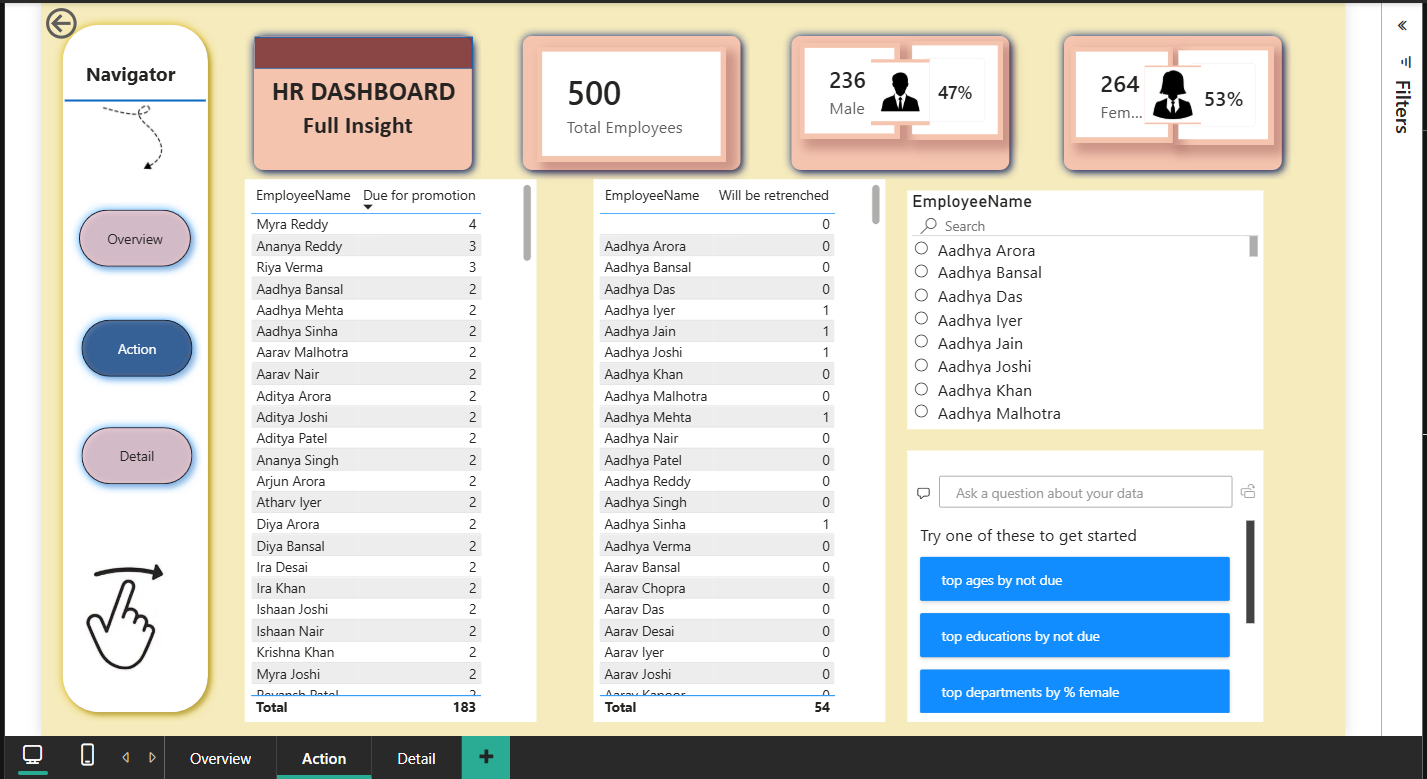

Layout of this report page (visuals, bound fields, positions):
{"tool":"powerbi","page":{"name":"Action","canvas":[1280,720],"ordinal":1},"visuals":[{"type":"shape","box":[12.3,12.3,160.5,693],"z":0},{"type":"shape","box":[200.3,23.3,231.9,149.6],"z":1000},{"type":"shape","box":[994.9,23.3,231.9,149.6],"z":2000},{"type":"shape","box":[727.3,23.3,231.9,149.6],"z":3000},{"type":"shape","box":[463.8,23.3,231.9,149.6],"z":4000},{"type":"textbox","box":[209.9,64.5,214.1,46.7],"z":5000},{"type":"textbox","box":[236,98.8,150.9,46.7],"z":6000},{"type":"shape","box":[209.9,32.9,214.1,31.6],"z":7000},{"type":"cardVisual","title":"TOTAL EMPLOYEES","fields":{"Data":["All Measures.Total EMP"]},"box":[487.1,42.5,185.2,112.5],"z":8000},{"type":"cardVisual","fields":{"Data":["All Measures.Male"]},"box":[745.1,39.8,98.8,94.7],"z":9000},{"type":"cardVisual","fields":{"Data":["All Measures.% male"]},"box":[850.8,37,94.7,97.4],"z":10000},{"type":"cardVisual","fields":{"Data":["All Measures.Female"]},"box":[1011.3,42.5,100.2,94.7],"z":11000},{"type":"cardVisual","fields":{"Data":["All Measures.% Female"]},"box":[1111.5,41.2,98.8,97.4],"z":12000},{"type":"image","box":[1084.1,61.7,54.9,57.6],"z":13000},{"type":"image","box":[815.1,54.9,57.6,64.5],"z":14000},{"type":"actionButton","box":[0,0,100,40],"z":15000},{"type":"tableEx","fields":{"Values":["HR_Employee_Data.EmployeeName","All Measures.Due for promotion"]},"box":[200.3,172.9,286.8,532.4],"z":16000},{"type":"tableEx","fields":{"Values":["HR_Employee_Data.EmployeeName","All Measures.Will be retreanched"]},"box":[542,172.9,286.8,532.4],"z":17000},{"type":"pageNavigator","box":[28.8,193.5,129,74.1],"z":18000},{"type":"pageNavigator","box":[30.2,301.9,127.6,74.1],"z":19000},{"type":"pageNavigator","box":[30.2,407.5,127.6,74.1],"z":20000},{"type":"textbox","box":[28.8,52.1,119.4,71.4],"z":21000},{"type":"shape","box":[23.3,49.4,138.6,93.3],"z":22000},{"type":"image","box":[30.2,65.9,118,131.7],"z":23000},{"type":"image","box":[24.7,540.7,135.8,118],"z":24000},{"type":"listSlicer","fields":{"Values":["HR Analytics Data.EmployeeName"]},"box":[850.3,184.1,349.7,234.4],"z":25000},{"type":"qnaVisual","box":[850.3,439.3,349.7,266.3],"z":26000}]}

Visuals, with their boxes on the page's 1280x720 design canvas (x1, y1, x2, y2). These are canvas units, not pixel positions in the 1427x779 screenshot, which may show the page scaled, cropped or inside an application window:
shape: box=[12, 12, 173, 705]
shape: box=[200, 23, 432, 173]
shape: box=[995, 23, 1227, 173]
shape: box=[727, 23, 959, 173]
shape: box=[464, 23, 696, 173]
textbox: box=[210, 64, 424, 111]
textbox: box=[236, 99, 387, 146]
shape: box=[210, 33, 424, 64]
"TOTAL EMPLOYEES" cardVisual: box=[487, 42, 672, 155]
cardVisual - All Measures.Male: box=[745, 40, 844, 134]
cardVisual - All Measures.% male: box=[851, 37, 946, 134]
cardVisual - All Measures.Female: box=[1011, 42, 1112, 137]
cardVisual - All Measures.% Female: box=[1112, 41, 1210, 139]
image: box=[1084, 62, 1139, 119]
image: box=[815, 55, 873, 119]
actionButton: box=[0, 0, 100, 40]
tableEx - HR_Employee_Data.EmployeeName x All Measures.Due for promotion: box=[200, 173, 487, 705]
tableEx - HR_Employee_Data.EmployeeName x All Measures.Will be retreanched: box=[542, 173, 829, 705]
pageNavigator: box=[29, 194, 158, 268]
pageNavigator: box=[30, 302, 158, 376]
pageNavigator: box=[30, 408, 158, 482]
textbox: box=[29, 52, 148, 124]
shape: box=[23, 49, 162, 143]
image: box=[30, 66, 148, 198]
image: box=[25, 541, 160, 659]
listSlicer - HR Analytics Data.EmployeeName: box=[850, 184, 1200, 418]
qnaVisual: box=[850, 439, 1200, 706]
